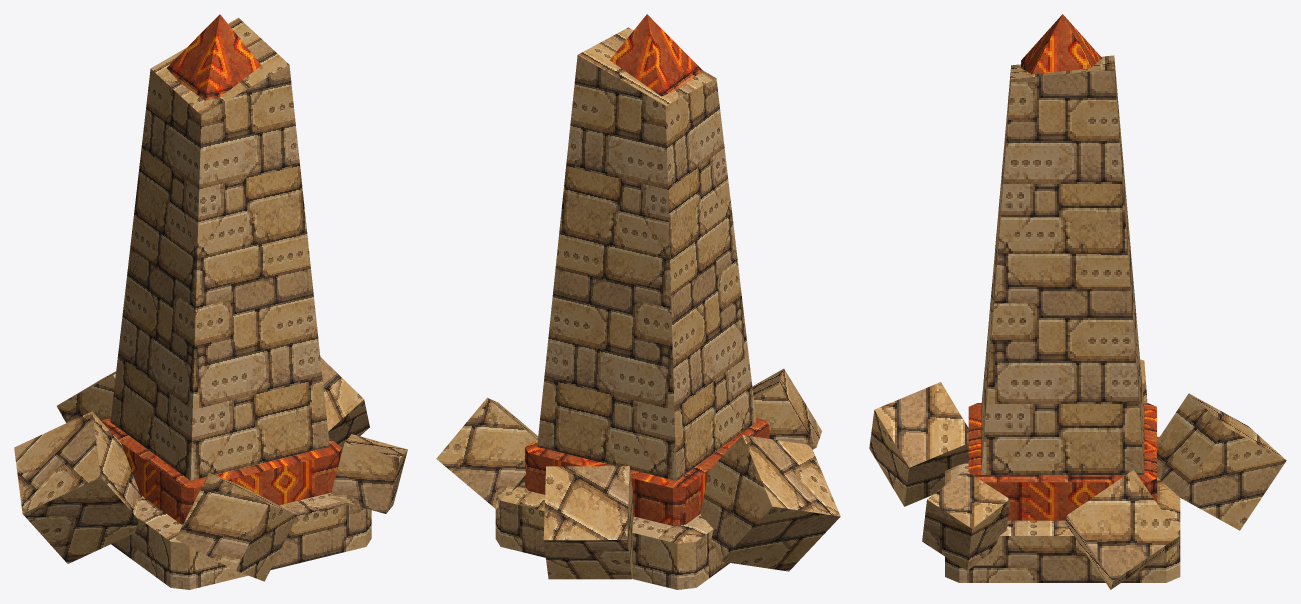
The model's file is ruin_pillar.glb.
3 renders of one model, left to right at view 1: azimuth 30°, elevation 25°; view 2: azimuth 150°, elevation 25°; view 3: azimuth 270°, elevation 25°, orthographic.
Parts seen in each view (by area): view 1: Column, Stub, Base; view 2: Column, Stub, Base; view 3: Column, Stub, Base.
Part boxes in pixels (<box>): Column: <box>101,14,341,524</box>; Stub: <box>14,357,407,581</box>; Base: <box>111,492,371,589</box>; Column: <box>525,14,769,525</box>; Stub: <box>436,368,840,579</box>; Base: <box>495,481,729,589</box>; Column: <box>968,14,1156,520</box>; Stub: <box>869,359,1286,589</box>; Base: <box>945,436,1180,582</box>.
Bounding box in the file's own units: 3.69 × 4.93 × 3.55.
2 materials, 2 textured.
